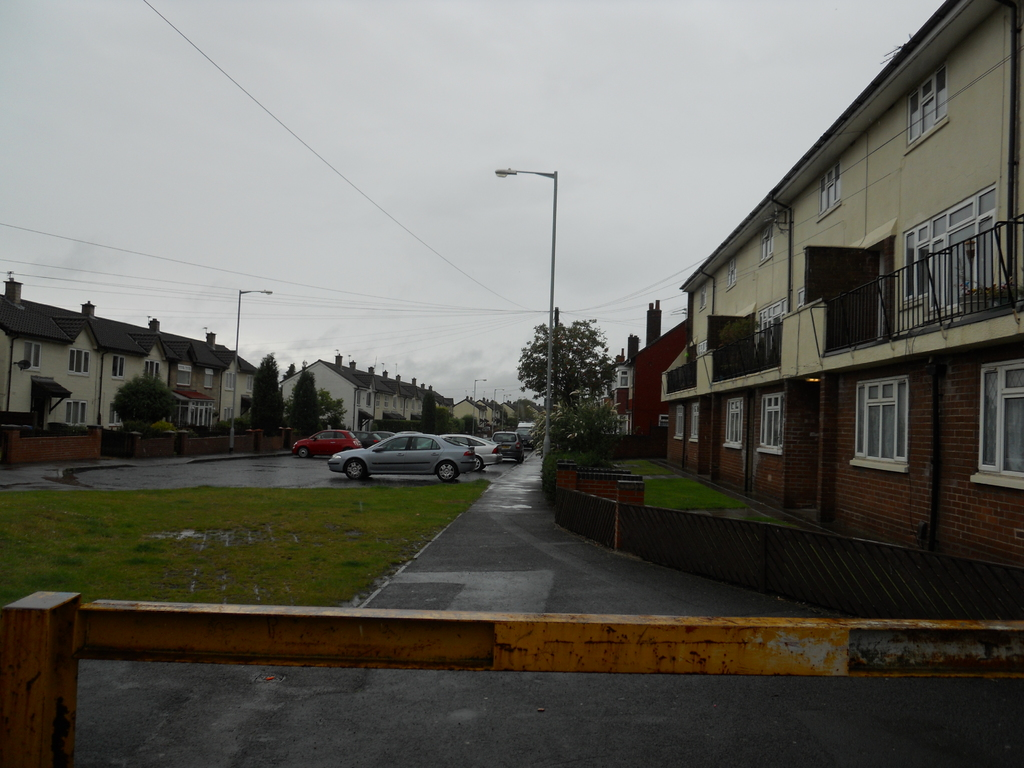Car: (330, 431, 476, 479), (437, 434, 499, 467), (291, 430, 362, 458), (496, 430, 519, 465)
